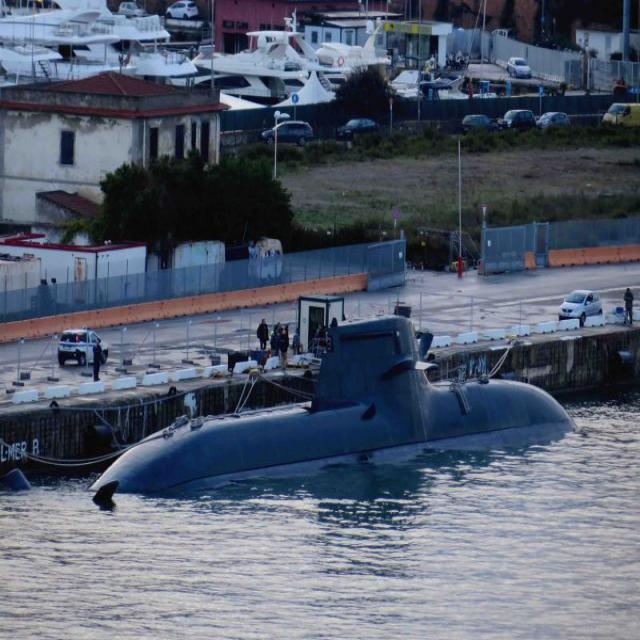submarine: (9, 317, 580, 515)
